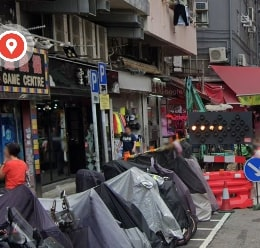Parking: (90, 71, 100, 94), (98, 65, 108, 86)
